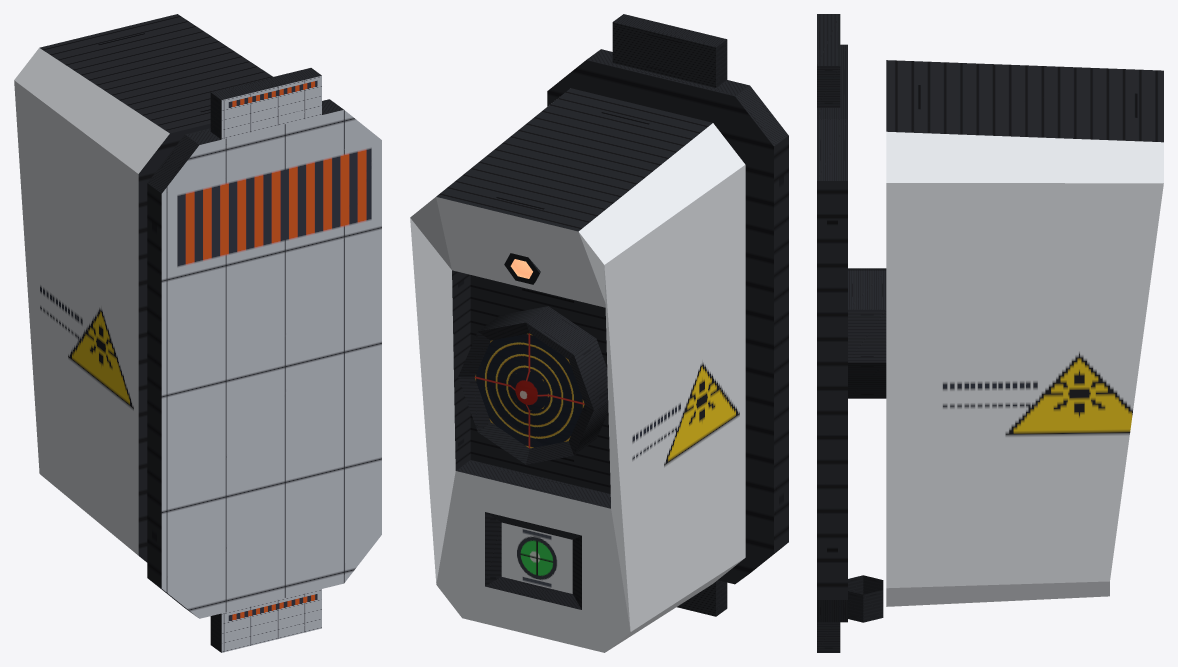
File: SEC_Laser_Barrier_Emitter.fbx
The picture shows the model from 3 angles, left to right: view 1: azimuth 30°, elevation 25°; view 2: azimuth 150°, elevation 25°; view 3: azimuth 270°, elevation 25°; orthographic projection. The views are drawn at different scales.
Visible parts, largest first — view 1: SEC_Laser_Barrier_Emitter, Emitter_Housing; view 2: Emitter_Housing, SEC_Laser_Barrier_Emitter, Optical_Window, Status_LED; view 3: Emitter_Housing, SEC_Laser_Barrier_Emitter.
Boxes of the visible parts, box(x1,y1,x2,y2) form: SEC_Laser_Barrier_Emitter: box(147, 68, 381, 652); Emitter_Housing: box(14, 14, 272, 562); Emitter_Housing: box(410, 88, 745, 652); SEC_Laser_Barrier_Emitter: box(547, 14, 788, 616); Optical_Window: box(458, 306, 608, 464); Status_LED: box(504, 253, 540, 284); Emitter_Housing: box(886, 60, 1163, 606); SEC_Laser_Barrier_Emitter: box(817, 14, 886, 652).
Size of the model in its own units: 7 by 16.8 by 9.
